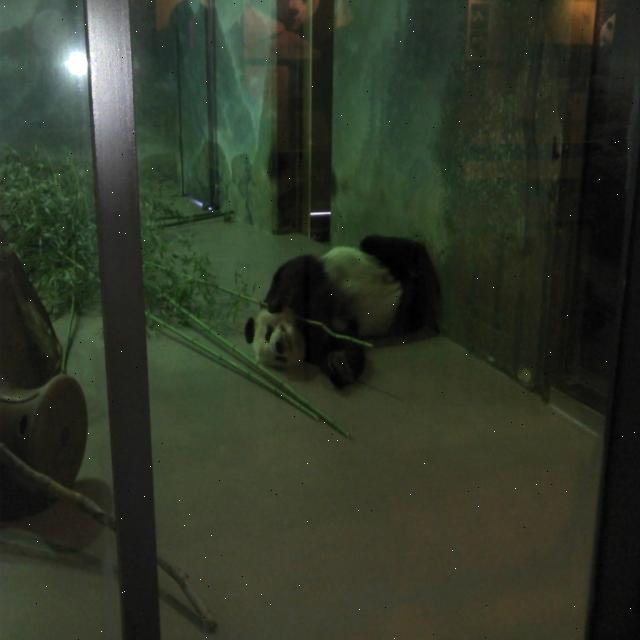panda: (244, 235, 435, 392)
